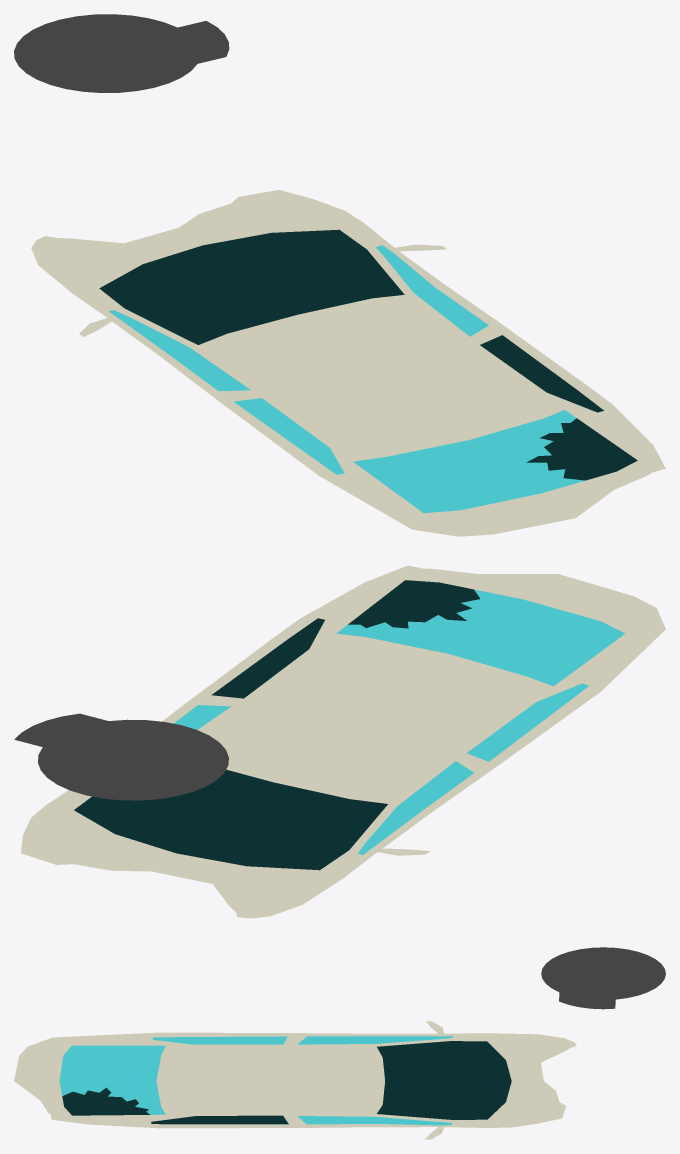
The model's file is wypadek.dae.
3 renders of one model, top to bottom at view 1: azimuth 30°, elevation 25°; view 2: azimuth 150°, elevation 25°; view 3: azimuth 270°, elevation 25°, orthographic. The views are drawn at different scales.
Visible parts, largest first — view 1: Plane, Circle; view 2: Plane, Circle; view 3: Plane, Circle.
Boxes of the visible parts, x1,y1,x2,y2 form: Plane: (31, 190, 665, 536); Circle: (14, 14, 229, 92); Plane: (21, 565, 665, 918); Circle: (14, 713, 228, 800); Plane: (14, 1021, 576, 1139); Circle: (541, 947, 665, 1009).
Size of the model in its own units: 1.88 by 4.38 by 0.7328.
